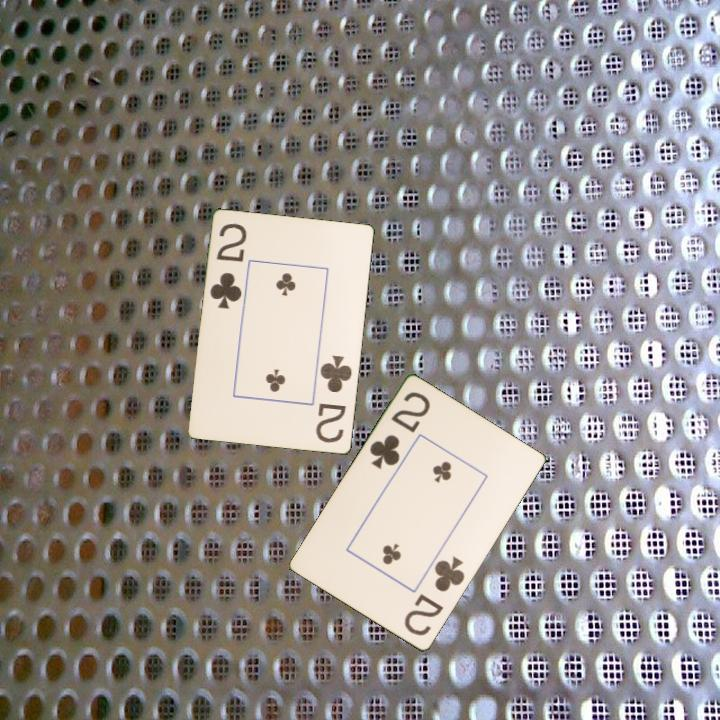2c: (400, 553, 468, 639), (366, 388, 433, 472), (312, 352, 355, 446), (207, 220, 250, 312)
